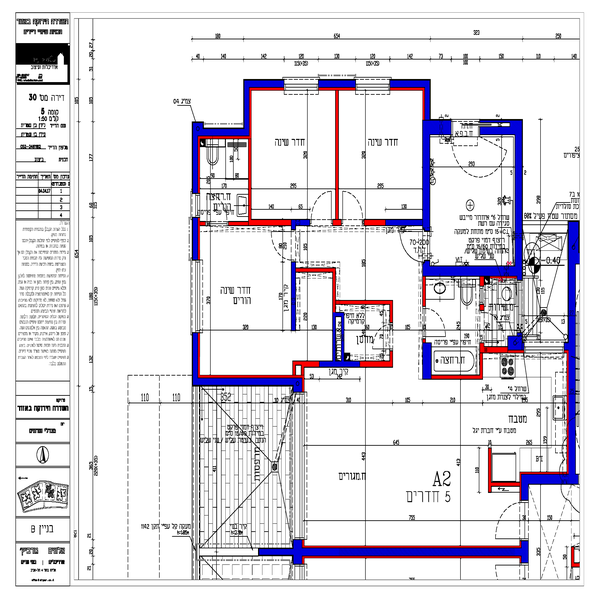door: (395, 226, 437, 264), (490, 499, 526, 540), (422, 307, 452, 343), (308, 187, 334, 226), (340, 187, 365, 226), (272, 228, 297, 262), (371, 323, 394, 351)
room: (295, 361, 530, 562), (189, 218, 305, 388), (424, 120, 524, 279), (333, 75, 432, 230), (242, 77, 338, 230), (426, 268, 579, 350)
wall: (258, 546, 526, 558), (568, 223, 578, 492), (515, 117, 524, 280), (202, 374, 302, 387), (421, 121, 432, 231), (425, 265, 517, 276), (297, 360, 390, 368), (519, 474, 574, 487), (194, 128, 250, 140), (190, 136, 201, 196), (362, 219, 421, 229), (321, 77, 357, 92), (335, 89, 339, 223), (191, 334, 202, 382), (192, 218, 204, 261), (244, 78, 286, 89), (248, 219, 310, 226), (423, 343, 434, 379), (394, 78, 428, 89), (332, 299, 399, 304)
window: (192, 261, 206, 333), (283, 74, 318, 95), (359, 74, 387, 95)
